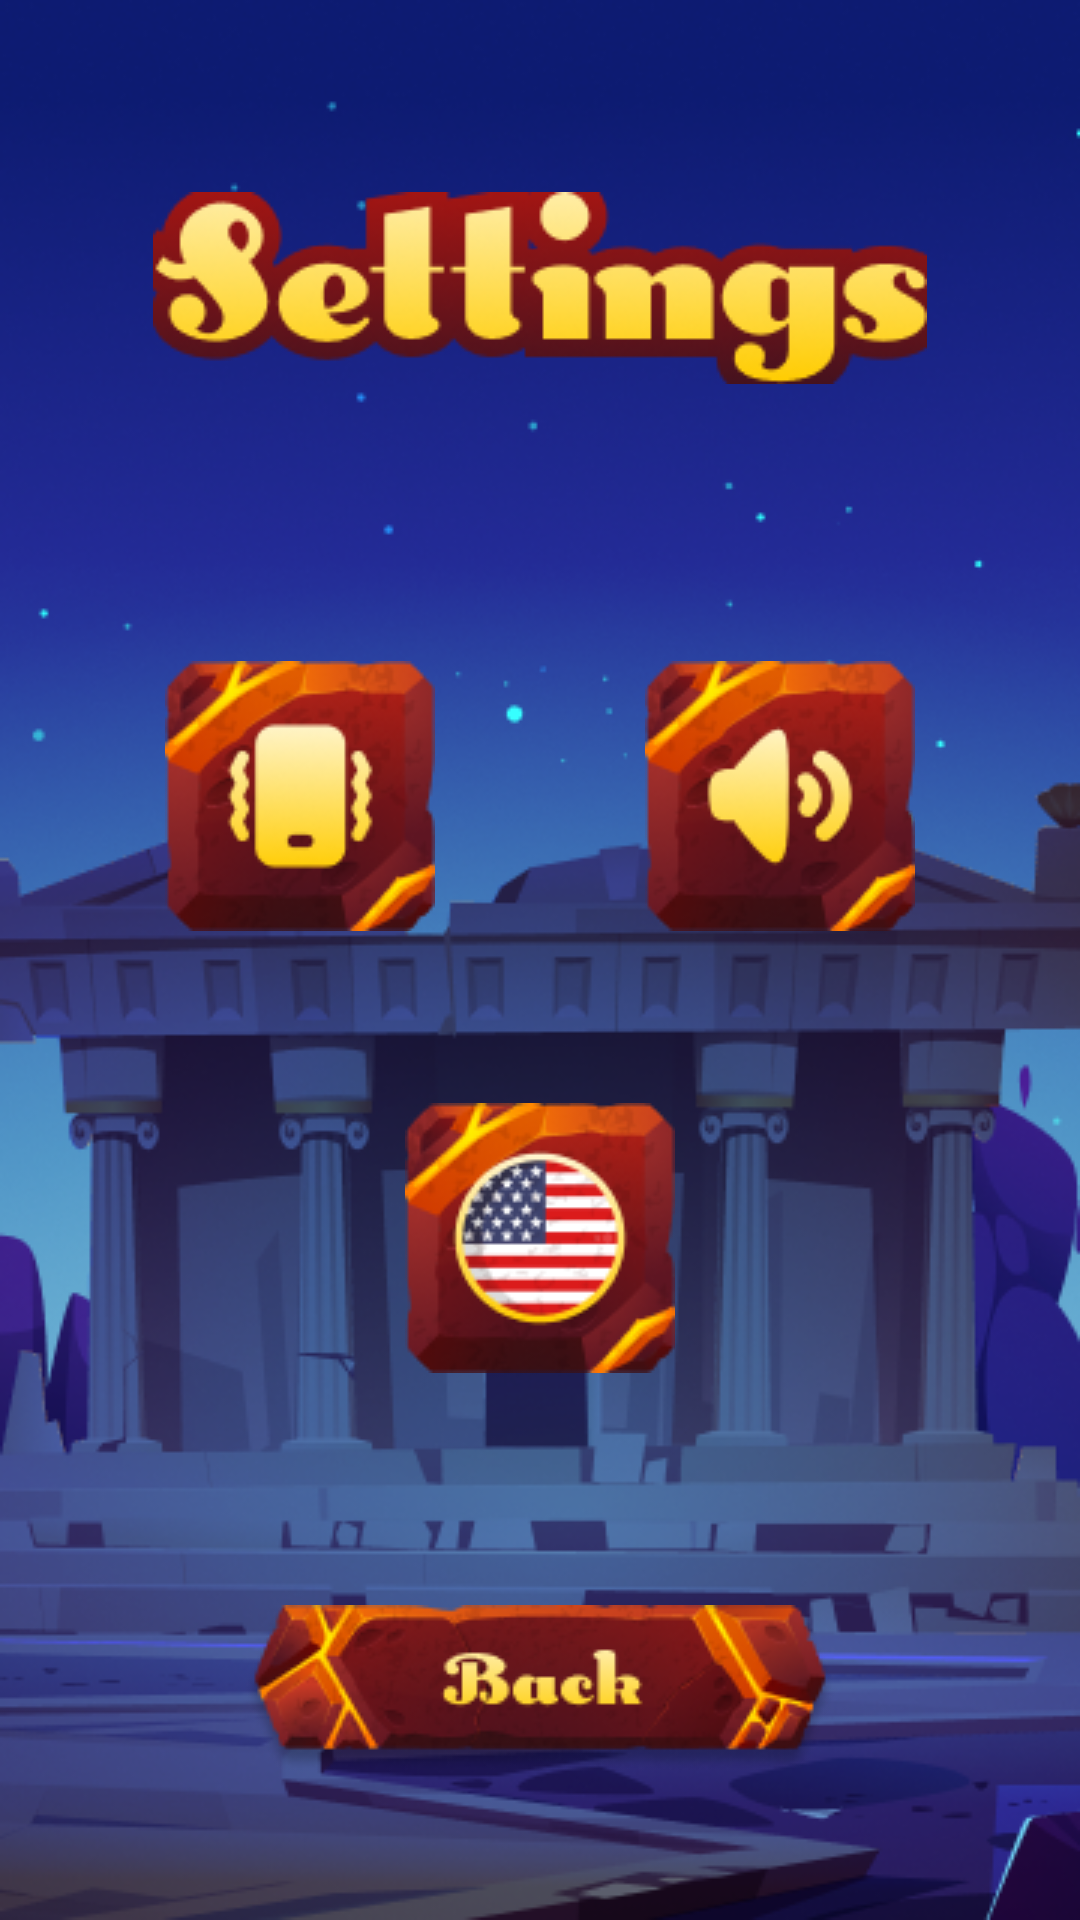

Point at icon controls on the screen. Image size 1080 x 1920, points as [x,y].
lang en: [540,1238]
sound: [780,796]
vibrate: [300,796]
